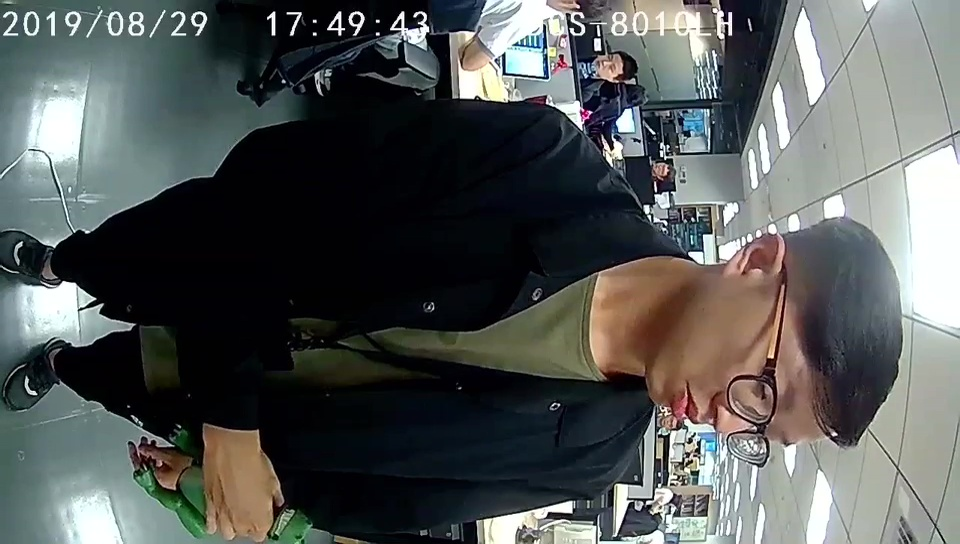rex: (130, 420, 315, 544)
